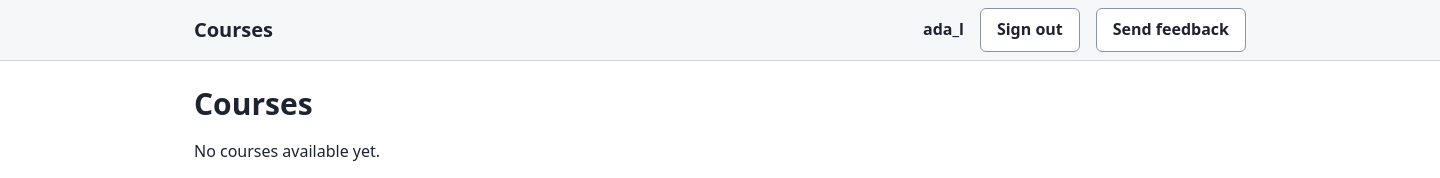
signs out and focuses the h1 even when already on the course list
Click the button "Sign out": point(1030, 30) [980,8,1080,52]
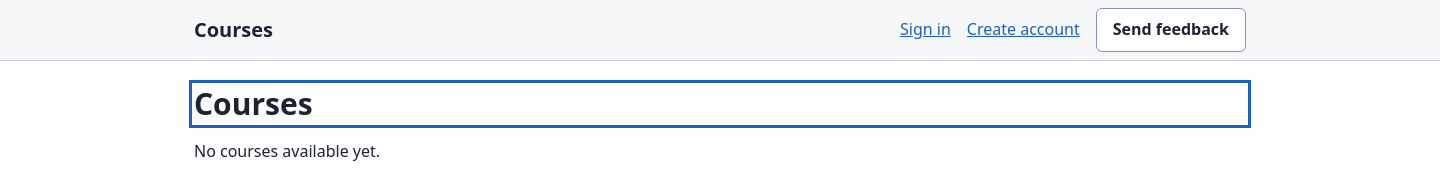
Result: the link "Sign in" is shown at [900,18,951,40]
